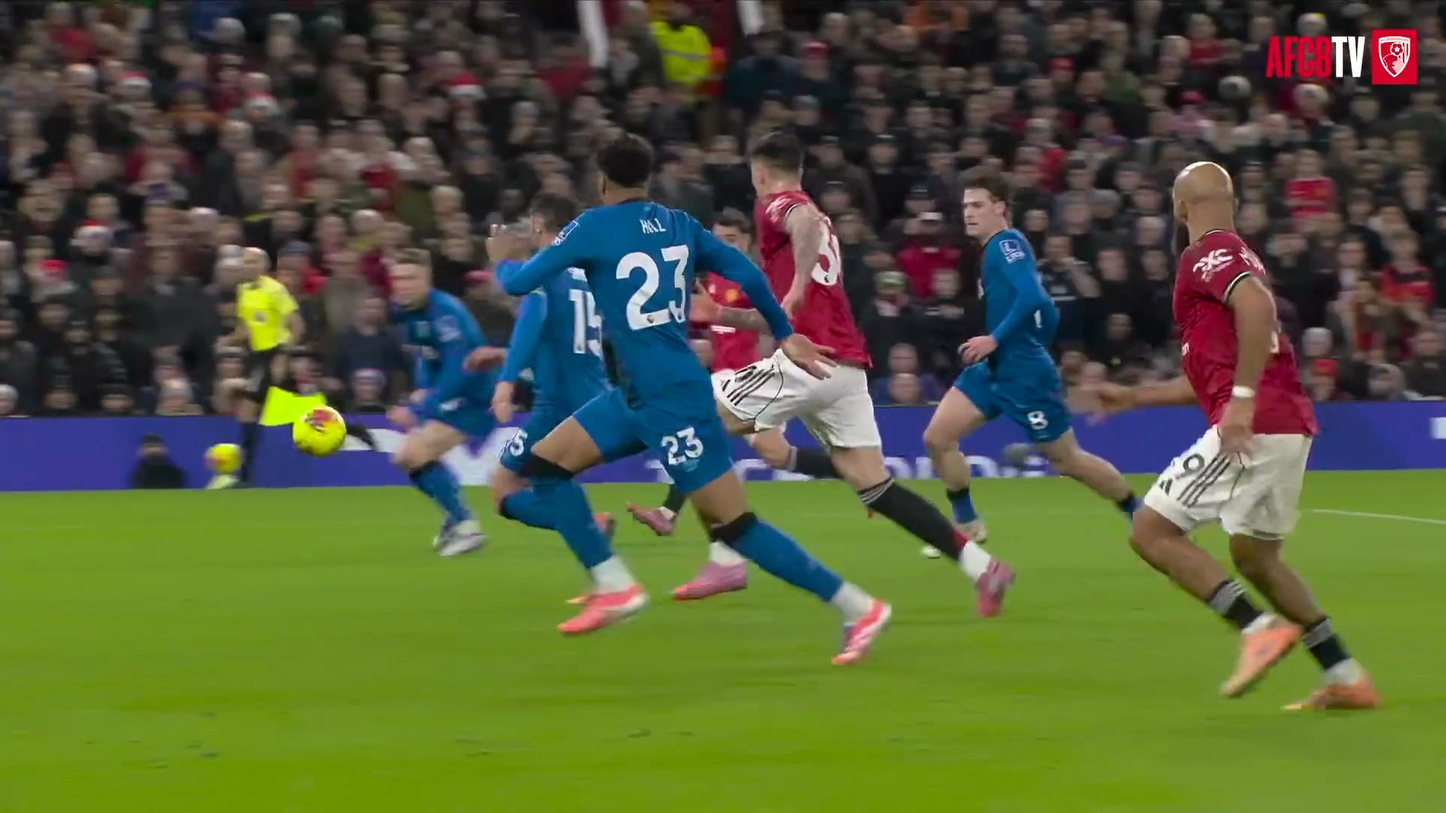football: (293, 406, 346, 456)
player: (501, 136, 891, 663), (1100, 162, 1378, 708), (715, 131, 1008, 614), (924, 168, 1137, 539), (468, 269, 609, 528), (388, 251, 495, 556), (746, 428, 836, 478)
referee: (227, 248, 304, 486)
